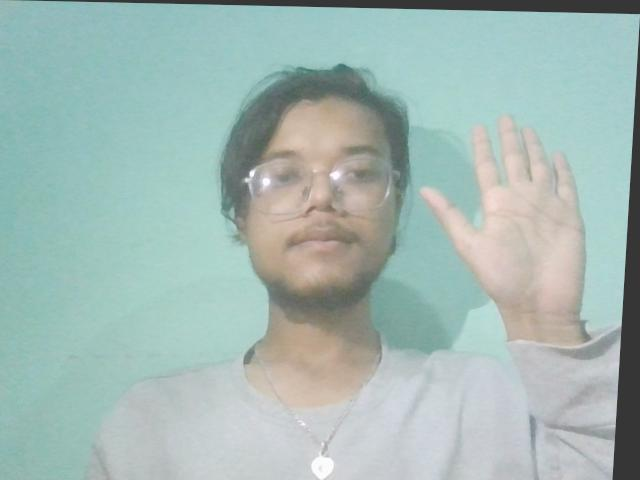hello: (405, 97, 625, 348)
